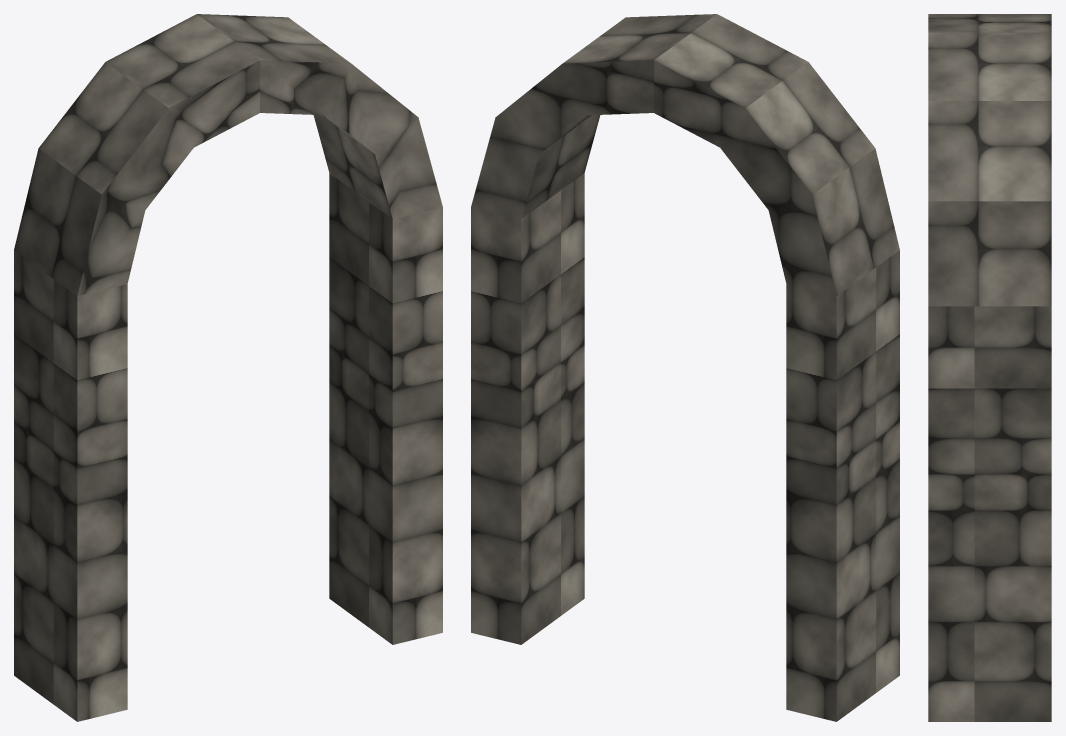
The model's file is DoorFrame_Round_Brick_LOD1.gltf.
The picture shows the model from 3 angles, left to right: view 1: azimuth 30°, elevation 25°; view 2: azimuth 150°, elevation 25°; view 3: azimuth 270°, elevation 25°; orthographic projection. The views are drawn at different scales.
Parts seen in each view (by area): view 1: DoorFrame_Round_Brick_LOD1; view 2: DoorFrame_Round_Brick_LOD1; view 3: DoorFrame_Round_Brick_LOD1.
Part boxes in pixels (<box>): DoorFrame_Round_Brick_LOD1: <box>14,14,442,721</box>; DoorFrame_Round_Brick_LOD1: <box>471,14,899,721</box>; DoorFrame_Round_Brick_LOD1: <box>928,14,1051,721</box>.
Bounding box in the file's own units: 1.6 × 2.58 × 0.48.
1 material, 1 textured.
